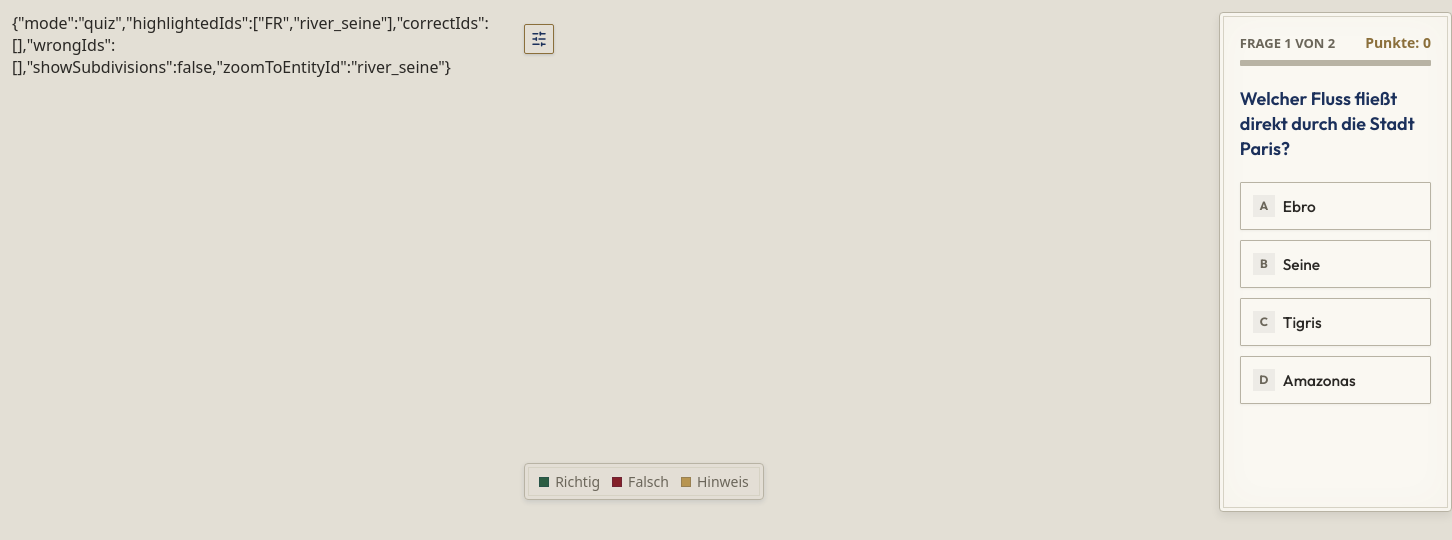
it: Quiz & Map Integration Test › handles wrong answers correctly on city-river questions without throwing and maps correctIds/wrongIds properly
Click the button "A Ebro". click: x=1335, y=206
box: top-left (1240, 182), bottom-right (1431, 230)
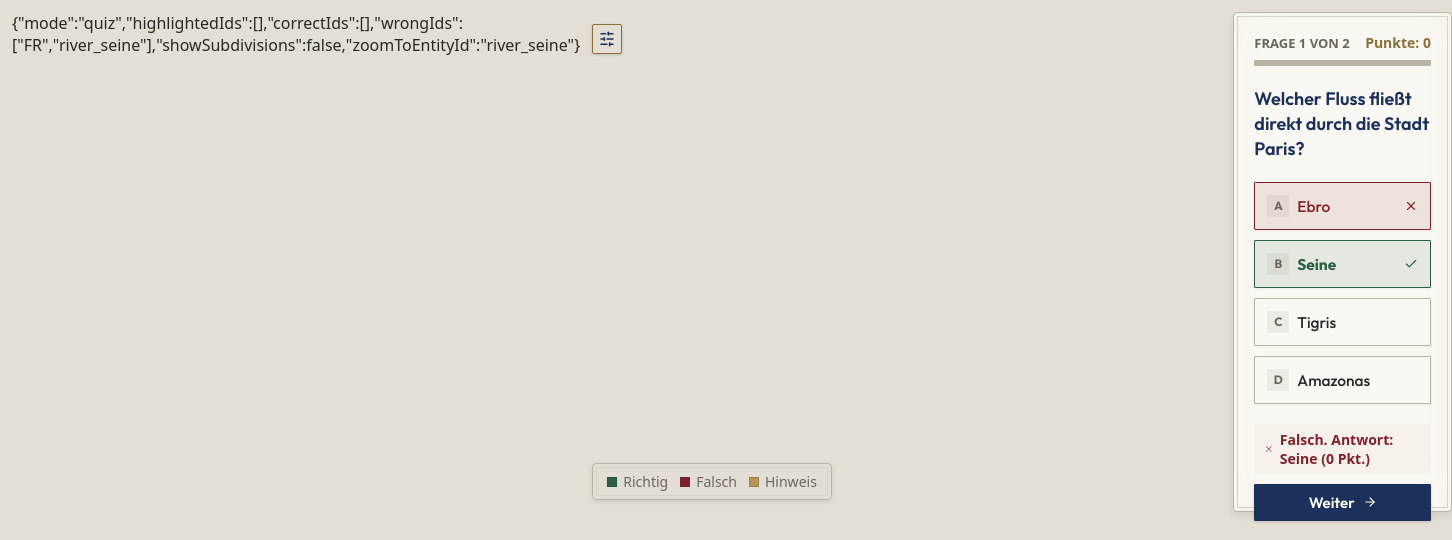
Check: the button "A Ebro" is disabled, box top-left (1254, 182), bottom-right (1431, 230)
Check: the text with test id "map-state" shows "\"wrongIds\":[\"FR\",\"river_seine\"]", box top-left (12, 12), bottom-right (580, 56)
Check: the button "Weiter" is shown, box top-left (1254, 484), bottom-right (1431, 521)
